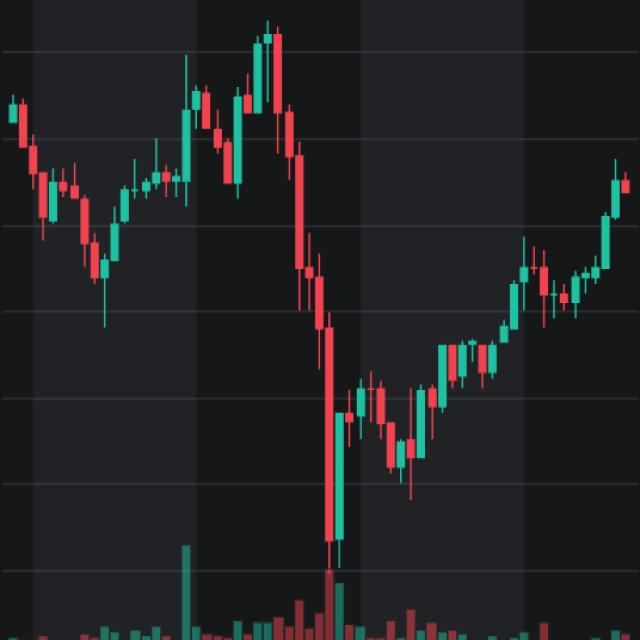Ascending-Triangle: (314, 332, 544, 594)
Inverse-Head-Shoulders: (12, 85, 205, 288)
